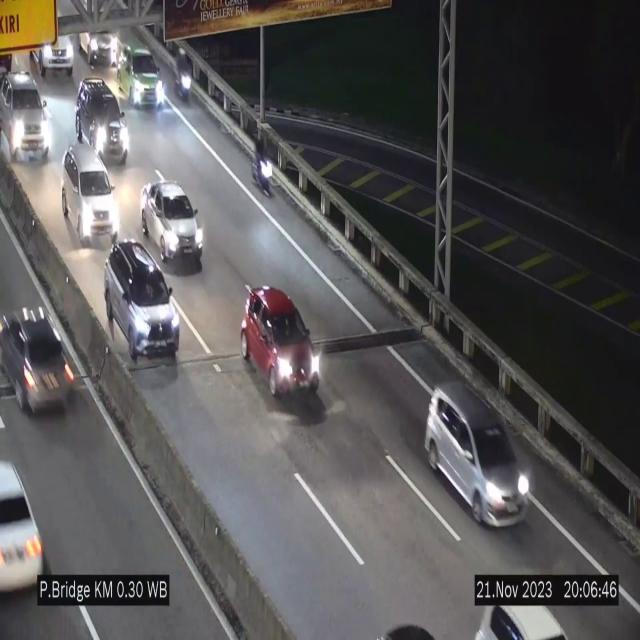Car: (424, 382, 533, 527), (232, 282, 324, 406), (0, 287, 76, 414), (104, 238, 180, 360), (63, 142, 125, 243), (70, 75, 132, 166), (141, 181, 203, 268), (0, 67, 50, 164), (27, 0, 73, 77), (113, 41, 165, 107), (79, 2, 121, 66)
Motorcycle: (248, 131, 276, 205), (174, 38, 194, 108)
